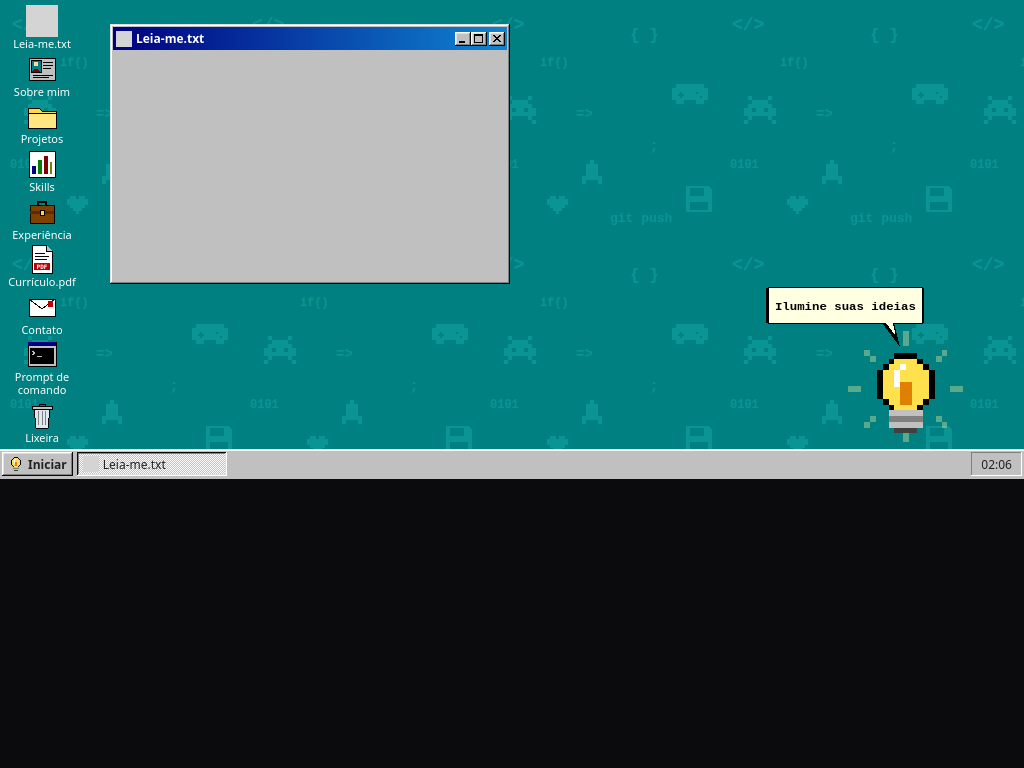
Scenario: Desktop › start menu lists the apps, opens one and closes; Escape closes it
Click the button "Iniciar" at (37,464), box [2,452,73,476]
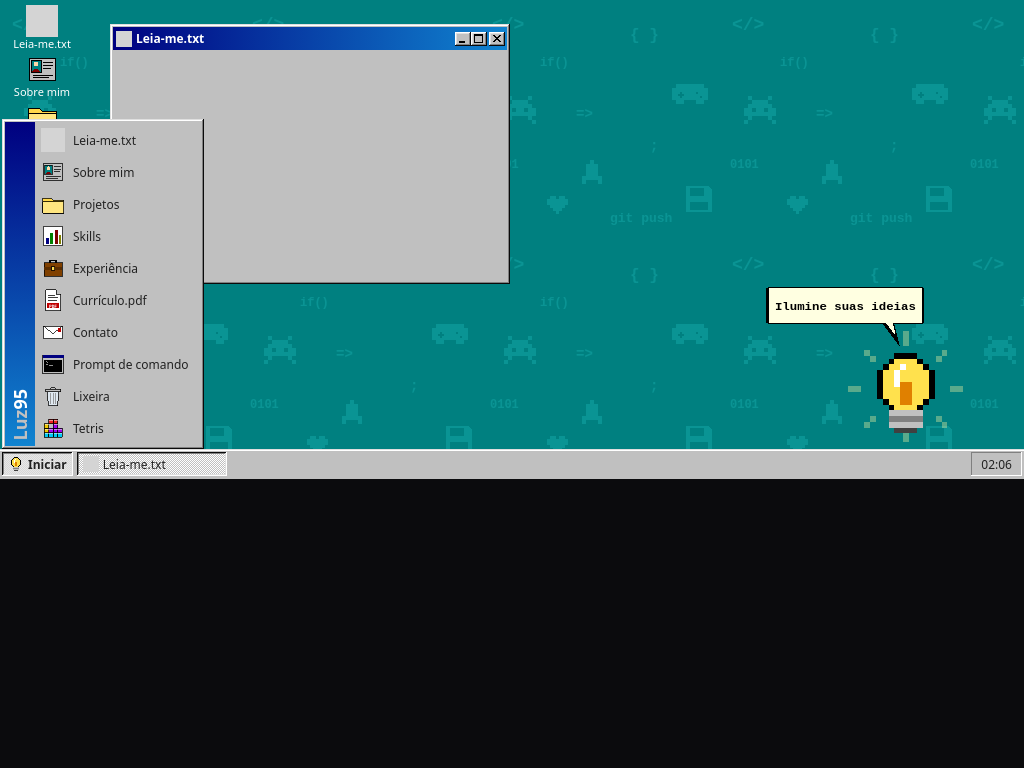
Click the menu item "Skills" at (118,236), box [37,220,199,252]
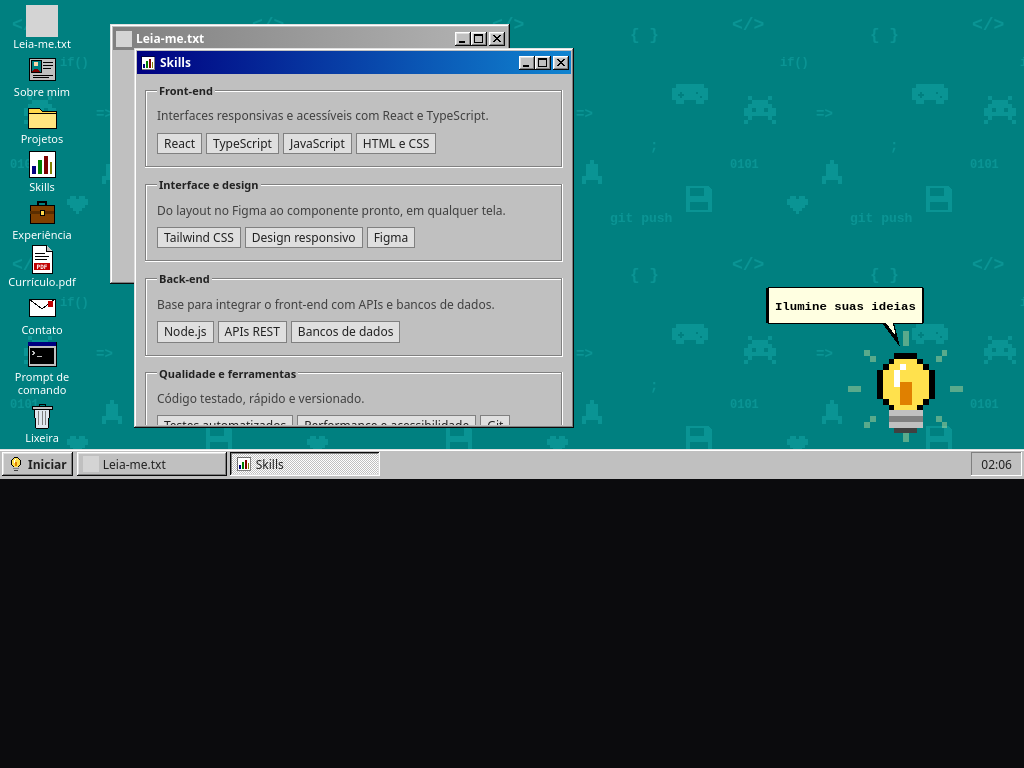
Expected: the dialog "Skills" is shown, [134,48,574,428]
Expected: the menu is gone
Click the button "Iniciar" at (37,464), box [2,452,73,476]
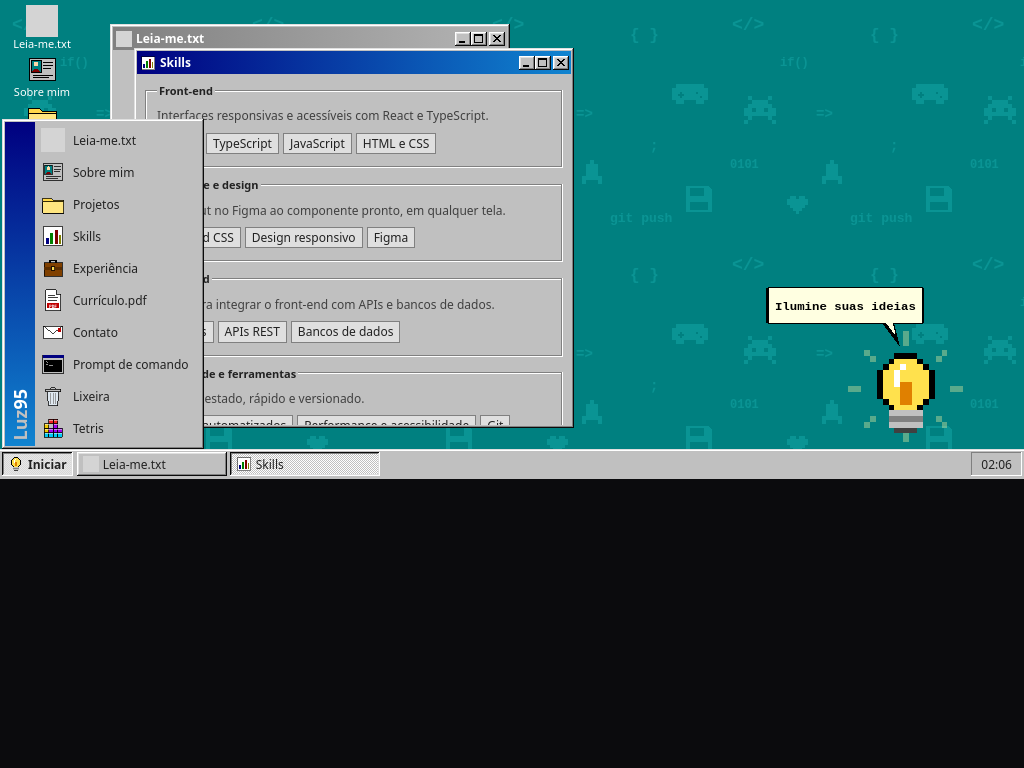
Press Escape
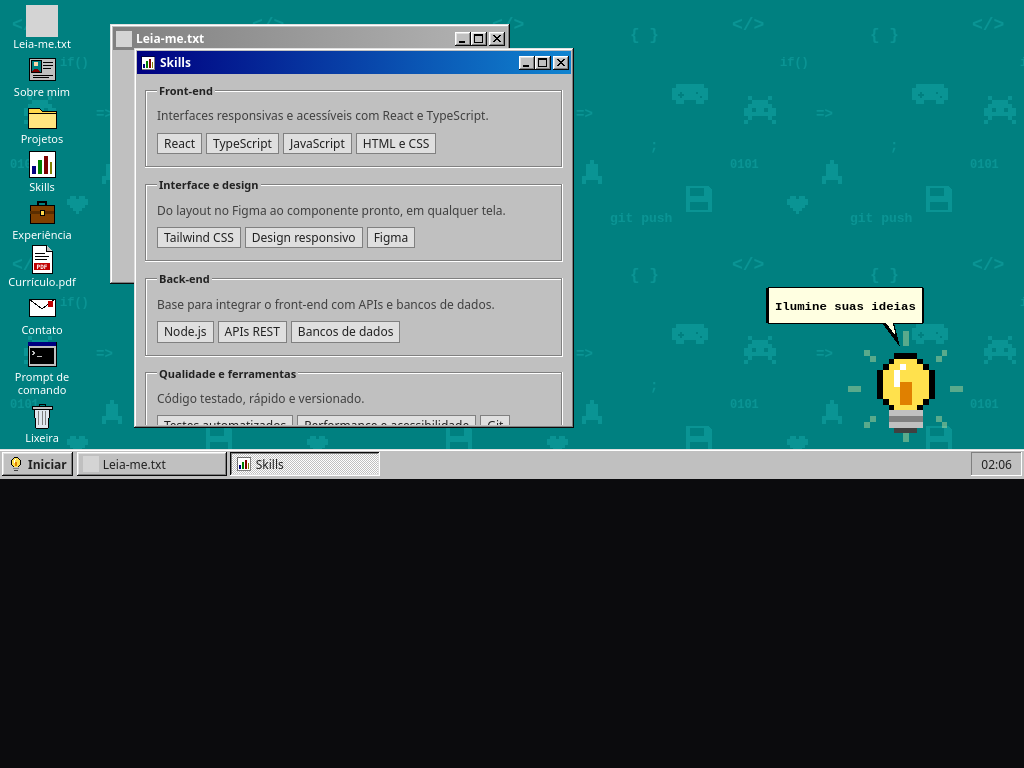
Expected: the menu is gone
